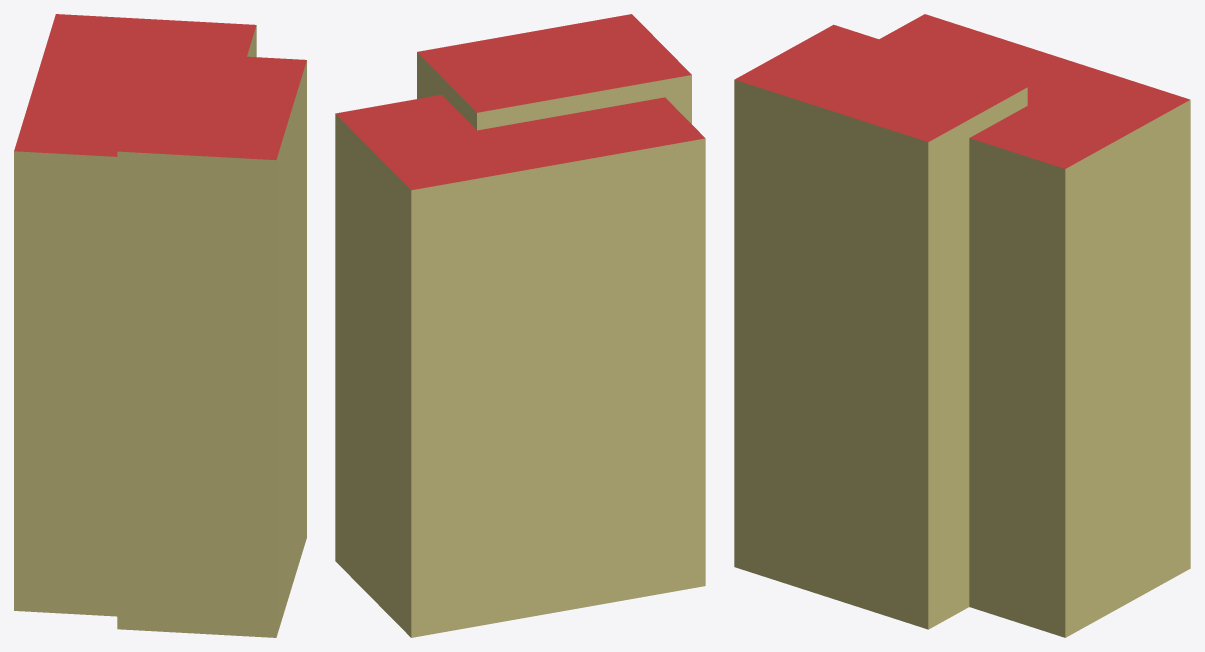
3 renders of one model, left to right at view 1: azimuth 30°, elevation 25°; view 2: azimuth 150°, elevation 25°; view 3: azimuth 270°, elevation 25°, orthographic. The views are drawn at different scales.
Visible parts, largest first — view 1: group_7, group_4, group_3, group_6; view 2: group_4, group_3, group_6, group_7; view 3: group_7, group_4, group_3, group_6.
Boxes of the visible parts, bbox=[...] form: group_7: bbox=[117, 60, 306, 637]; group_4: bbox=[14, 25, 256, 616]; group_3: bbox=[14, 14, 256, 156]; group_6: bbox=[117, 51, 306, 160]; group_4: bbox=[335, 114, 705, 637]; group_3: bbox=[335, 94, 704, 190]; group_6: bbox=[417, 14, 691, 112]; group_7: bbox=[417, 52, 691, 130]; group_7: bbox=[734, 79, 1027, 629]; group_4: bbox=[969, 100, 1190, 637]; group_3: bbox=[879, 14, 1189, 168]; group_6: bbox=[735, 24, 1027, 141].
Bounding box in the file's own units: 7.04 × 8.75 × 10.32.
